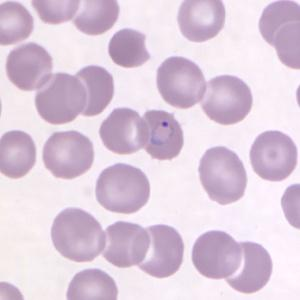Infected: (139, 110, 185, 161)
Uninfected: (128, 223, 183, 278), (32, 70, 86, 126), (198, 146, 249, 205), (51, 208, 106, 262), (95, 162, 150, 214), (197, 75, 253, 125), (222, 237, 272, 292), (191, 227, 242, 279), (156, 55, 206, 108), (42, 132, 95, 178), (252, 129, 297, 183), (7, 41, 52, 94), (99, 222, 150, 268), (100, 107, 146, 156), (70, 65, 113, 115), (178, 0, 225, 43), (64, 0, 120, 36), (0, 130, 37, 181), (109, 29, 154, 67)
